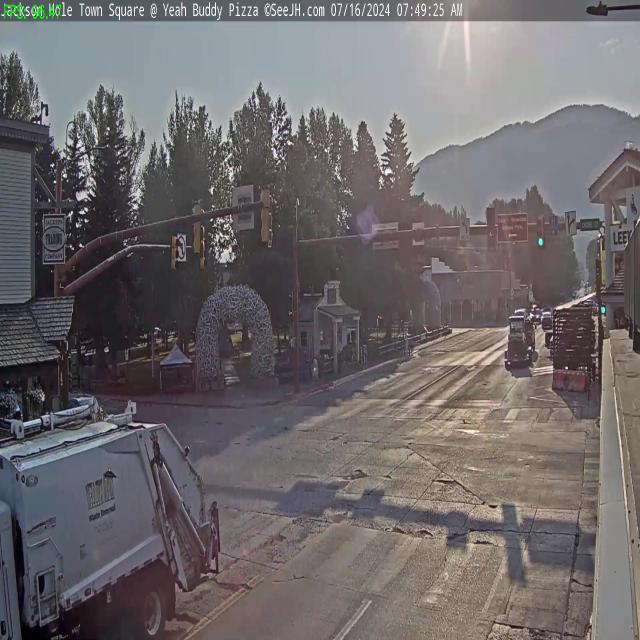traffic light: (260, 184, 272, 245), (191, 199, 203, 257), (486, 207, 496, 250), (171, 234, 179, 271), (537, 214, 545, 247)
truck: (4, 403, 219, 640)
